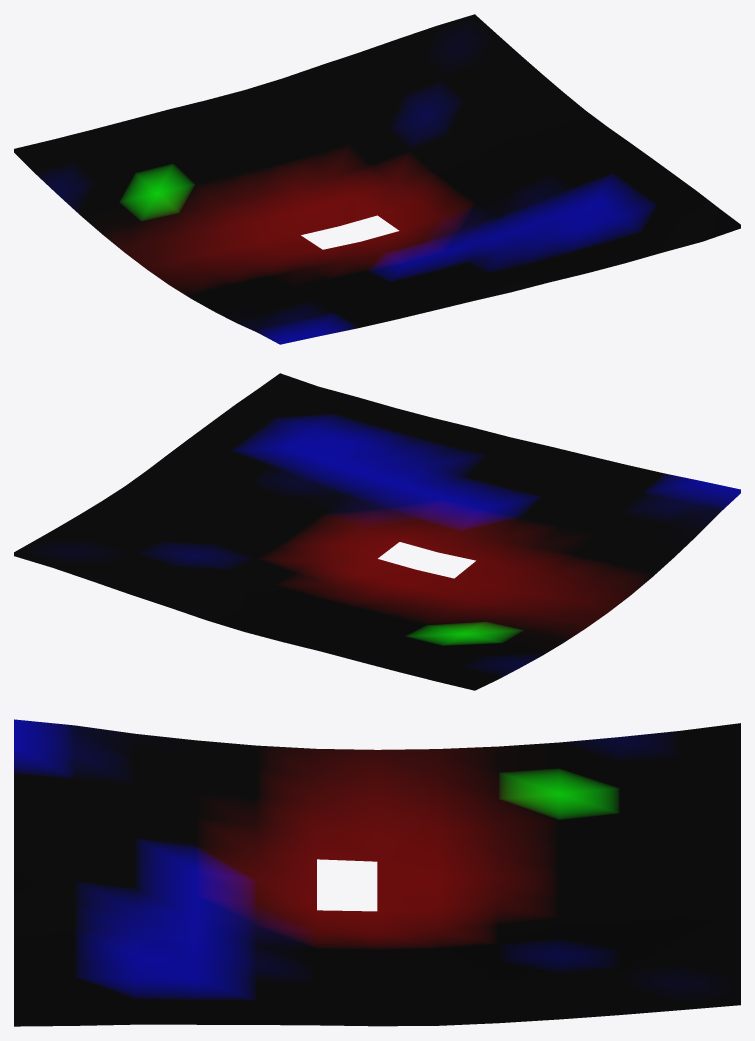
The model's file is coast_1_2.glb.
3 renders of one model, top to bottom at view 1: azimuth 30°, elevation 25°; view 2: azimuth 150°, elevation 25°; view 3: azimuth 270°, elevation 25°, orthographic. The views are drawn at different scales.
Visible parts, largest first — view 1: terrain; view 2: terrain; view 3: terrain.
Part boxes in pixels (x1,y1,x2,y2): terrain: (14, 14, 740, 344); terrain: (14, 373, 740, 690); terrain: (14, 719, 740, 1026).
Bounding box in the file's own units: 192 × 19.54 × 192.
